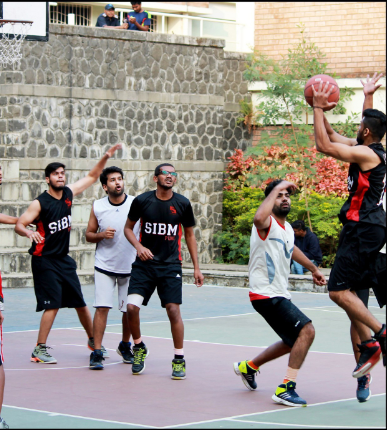ball: (303, 73, 340, 111)
player: (1, 140, 116, 368), (312, 103, 387, 402), (235, 178, 314, 407), (123, 163, 204, 378), (82, 167, 143, 371)
